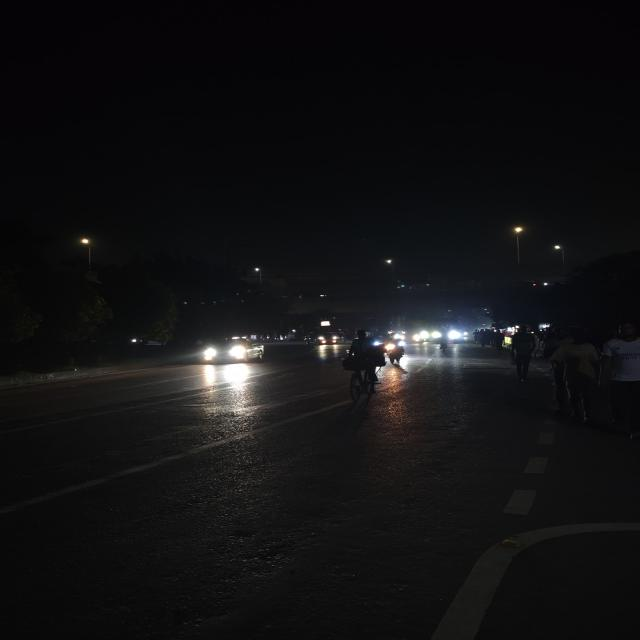bicycle: (340, 327, 387, 405)
bus: (417, 320, 447, 344)
car: (198, 335, 268, 367), (303, 326, 348, 348)
pedestrian: (594, 321, 640, 434), (549, 328, 600, 424), (509, 326, 538, 382), (488, 327, 504, 352), (500, 328, 514, 354), (496, 327, 509, 353), (474, 328, 486, 348)
